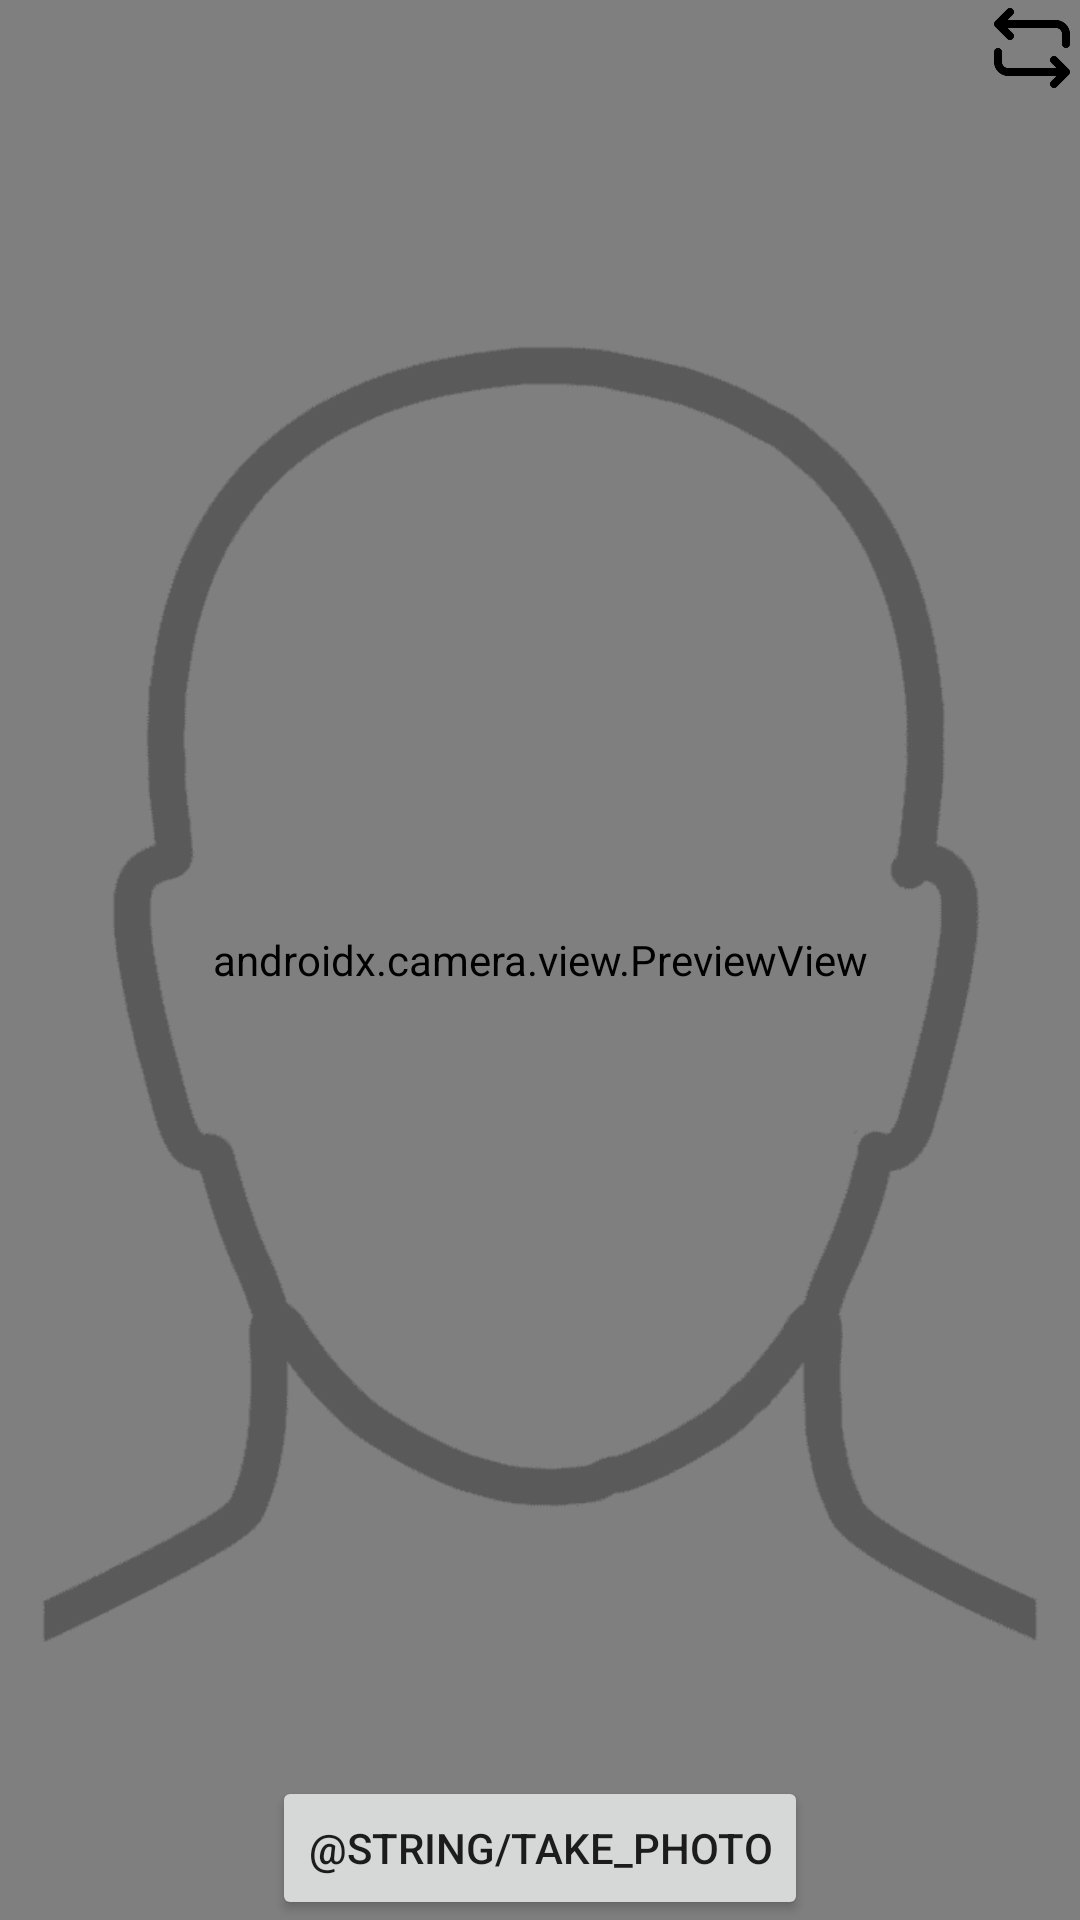

Point at icon controls on the screen. Image size 1080 × 1920, points as (x,y).
flip camera: (1032,48)
